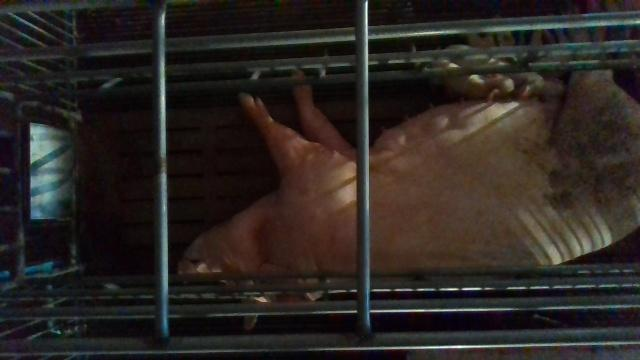piglet: (442, 44, 543, 97), (430, 57, 515, 104), (497, 28, 573, 74)
sow-sleep-lactate: (176, 68, 640, 329)
